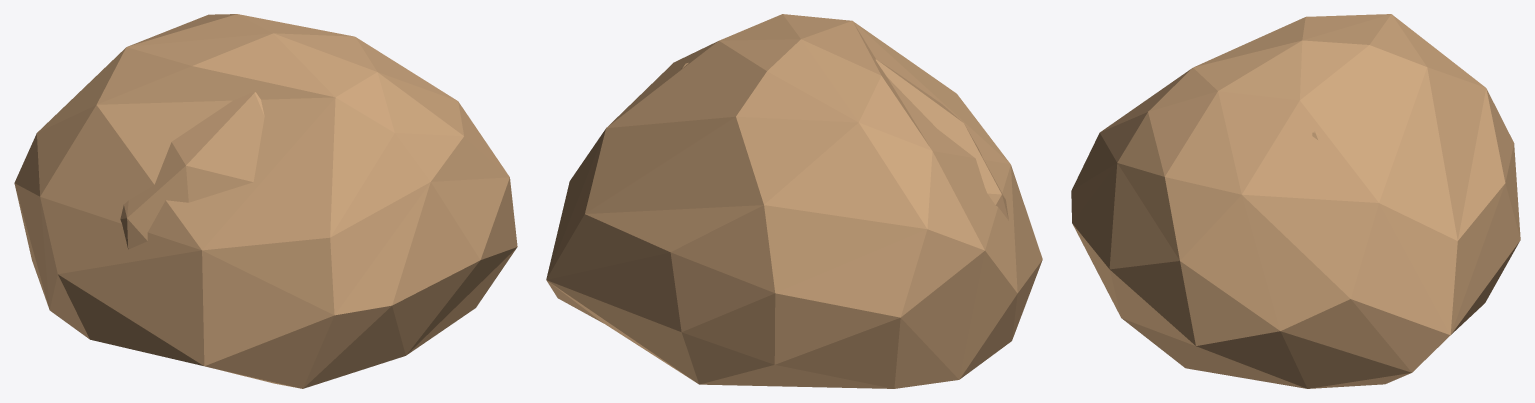
Rendered from clouds.fbx.
3 renders of one model, left to right at view 1: azimuth 30°, elevation 25°; view 2: azimuth 150°, elevation 25°; view 3: azimuth 270°, elevation 25°, orthographic. The views are drawn at different scales.
Visible parts, largest first — view 1: cloud01, cloud03; view 2: cloud01, cloud03; view 3: cloud01.
Part boxes in pixels (x1,y1,x2,y2): cloud01: [14, 14, 517, 388]; cloud03: [120, 92, 264, 249]; cloud01: [546, 14, 1042, 388]; cloud03: [681, 59, 1008, 220]; cloud01: [1071, 14, 1520, 388].
Bounding box in the file's own units: 333 × 231 × 316.
